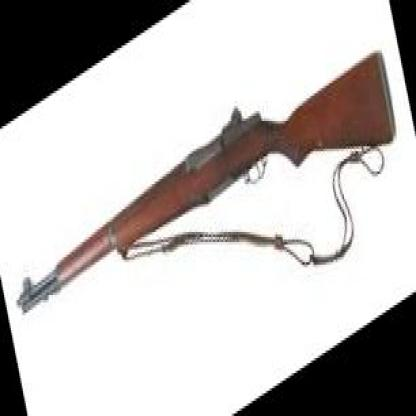rifle: (7, 5, 406, 391)
